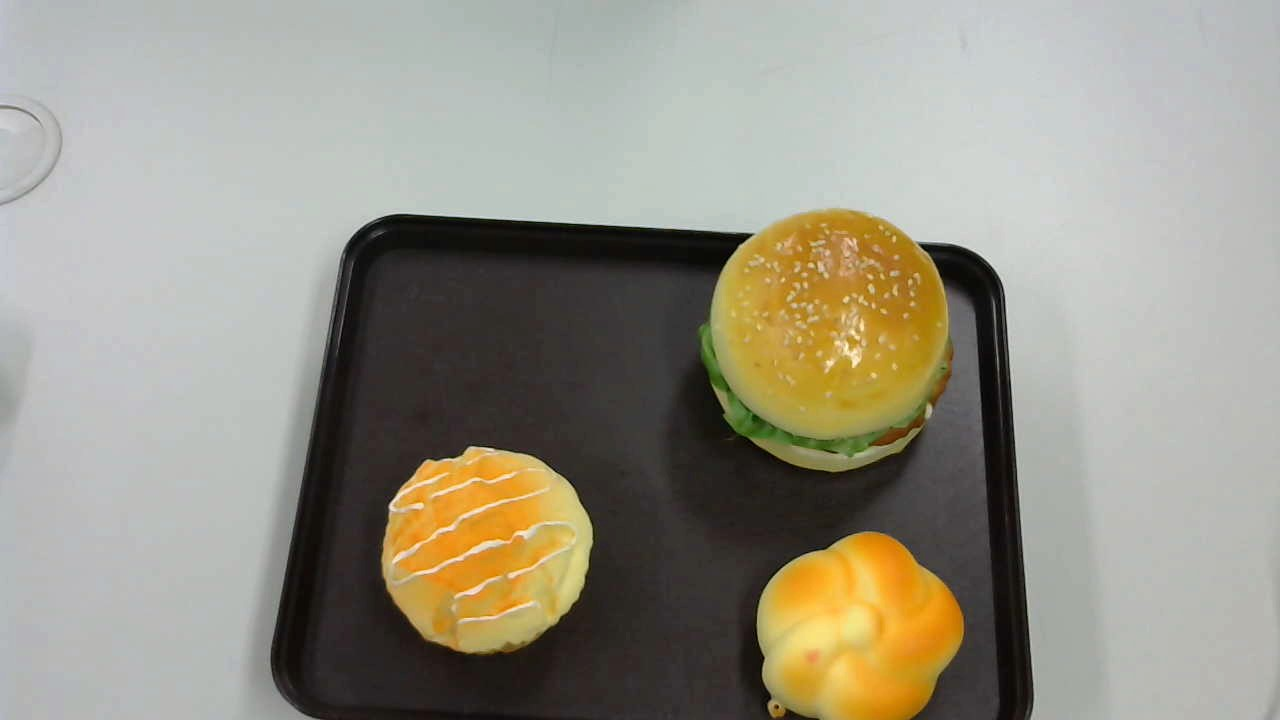cupcake: (380, 445, 592, 654)
hamburger: (698, 209, 954, 471)
twist bread: (755, 529, 965, 720)
